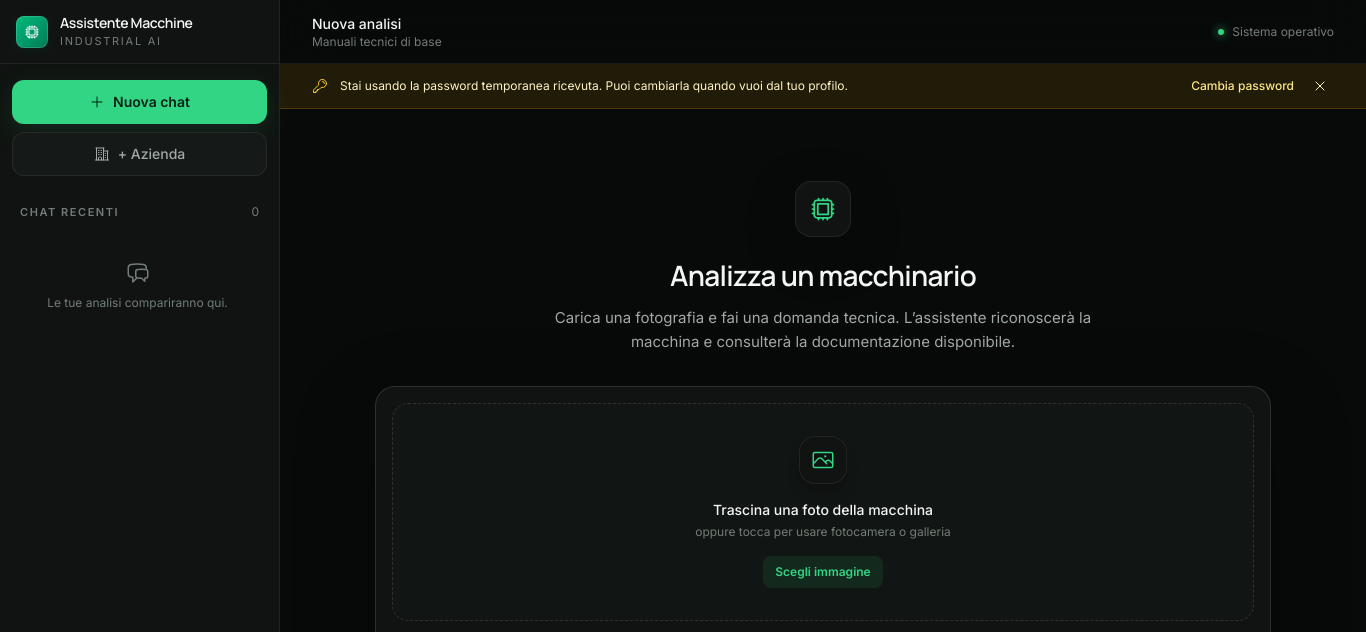
Test case: accesso › ricorda la password temporanea e permette di cambiarla dal profilo
Expected: the text "Stai usando la password temporanea ricevuta" is shown, [340,78,848,93]
Click the button "Cambia password" at (1243, 86), box [1191,78,1294,94]
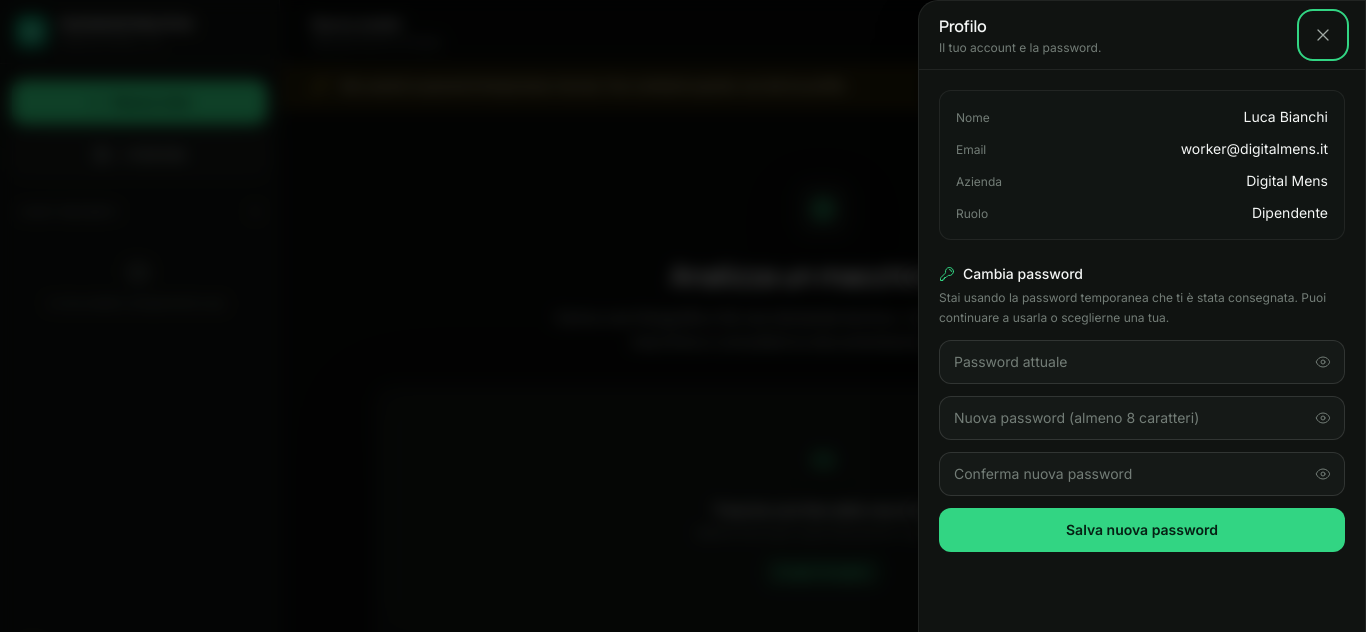
Type "Temporanea12" into the password field with placeholder "Password attuale" at (1142, 362), box [939,340,1345,384]
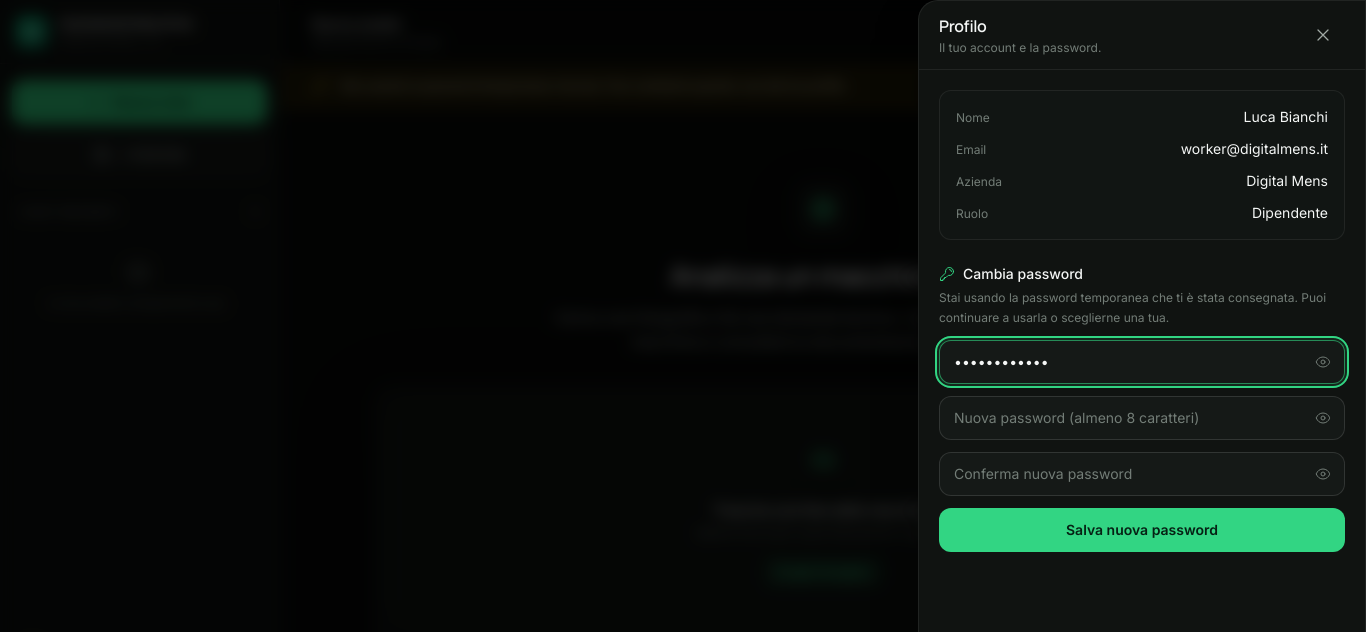
Type "MiaPassword99" into the password field with placeholder "Nuova password (almeno 8 caratteri)" at (1142, 418), box [939,396,1345,440]
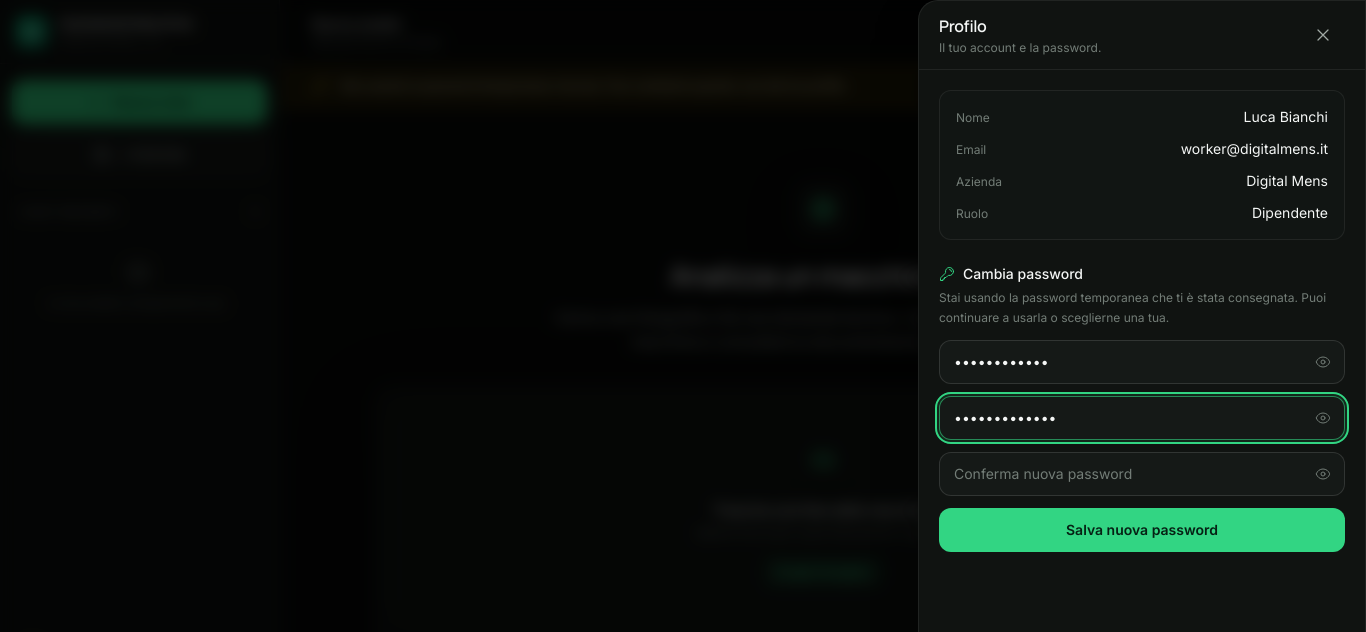
Type "MiaPassword99" into the password field with placeholder "Conferma nuova password" at (1142, 474), box [939,452,1345,496]
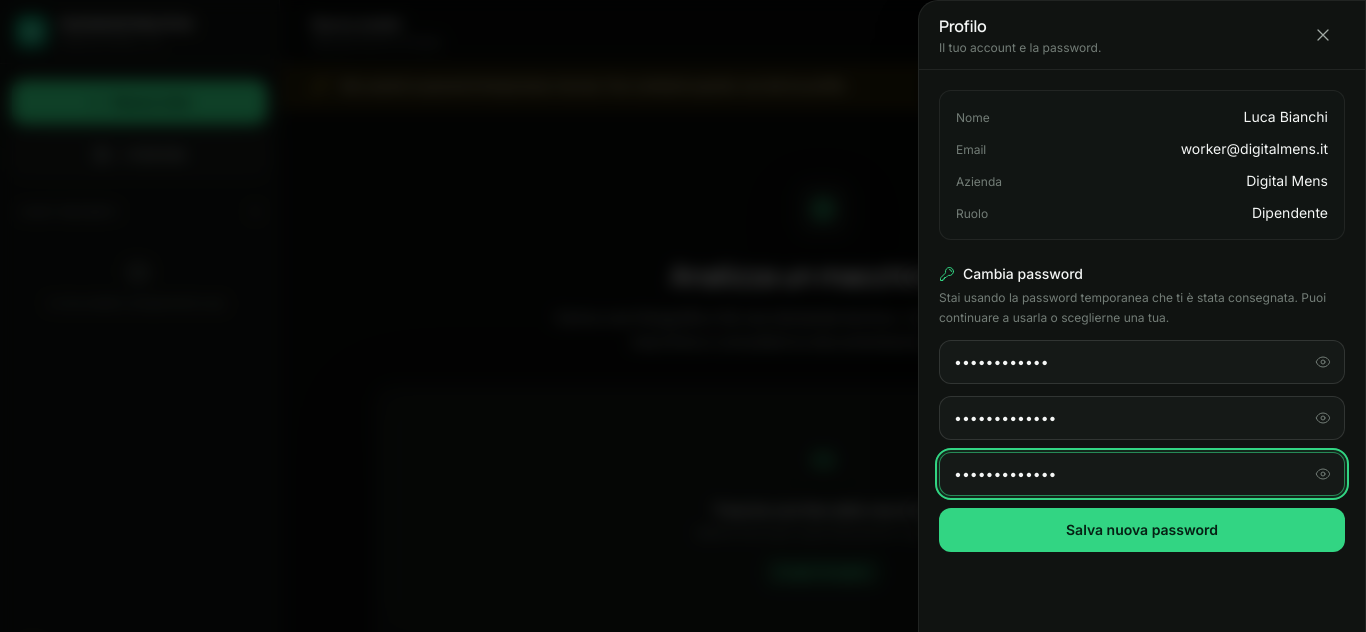
Click the button "Salva nuova password" at (1142, 530), box [939,508,1345,552]
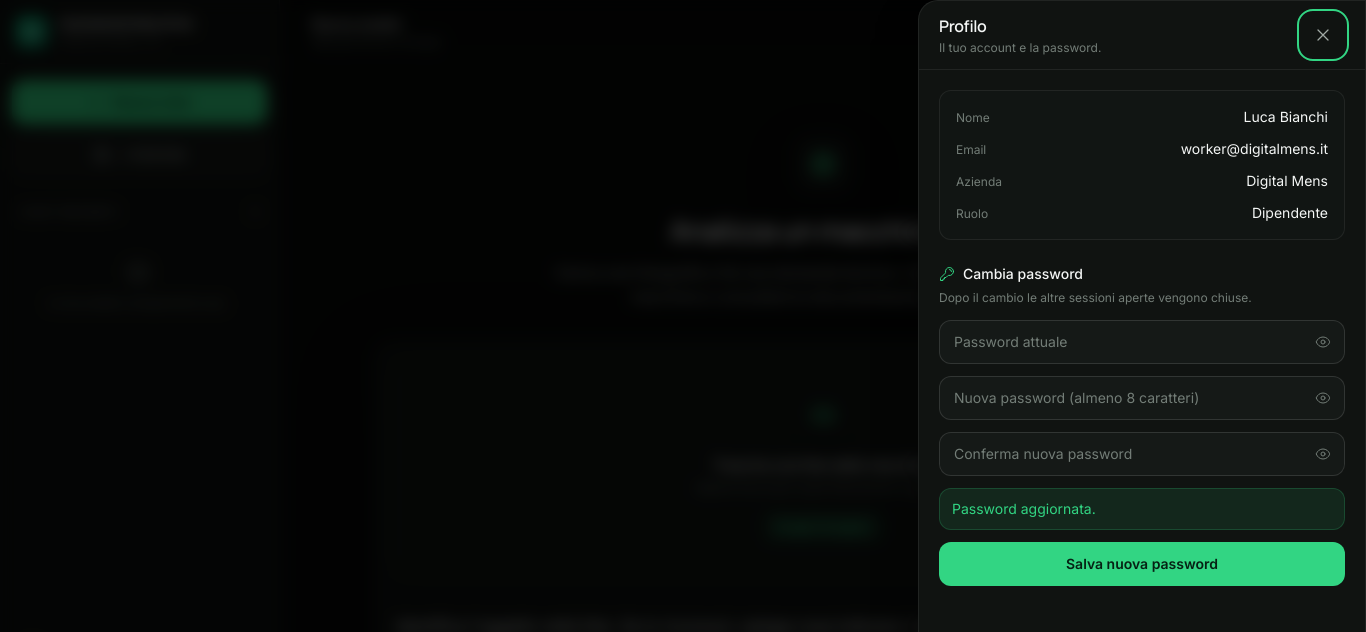
Expected: the text "Stai usando la password temporanea ricevuta" is not shown
Now the text "Password aggiornata." is shown, box [939,488,1345,530]
